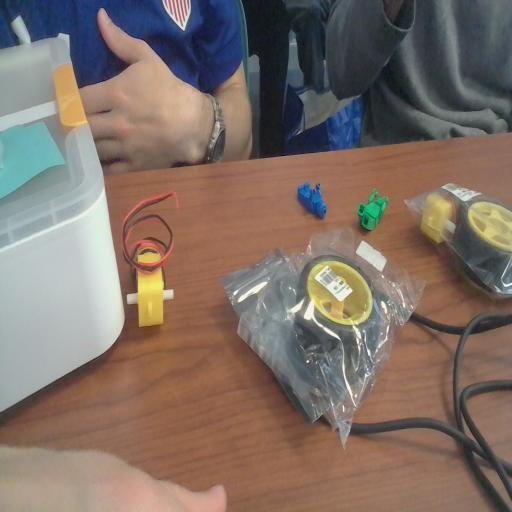green LEGO minifig: (354, 186, 392, 232)
